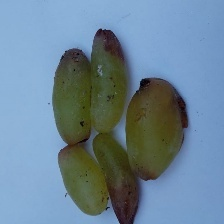grapes: (54, 25, 211, 201)
